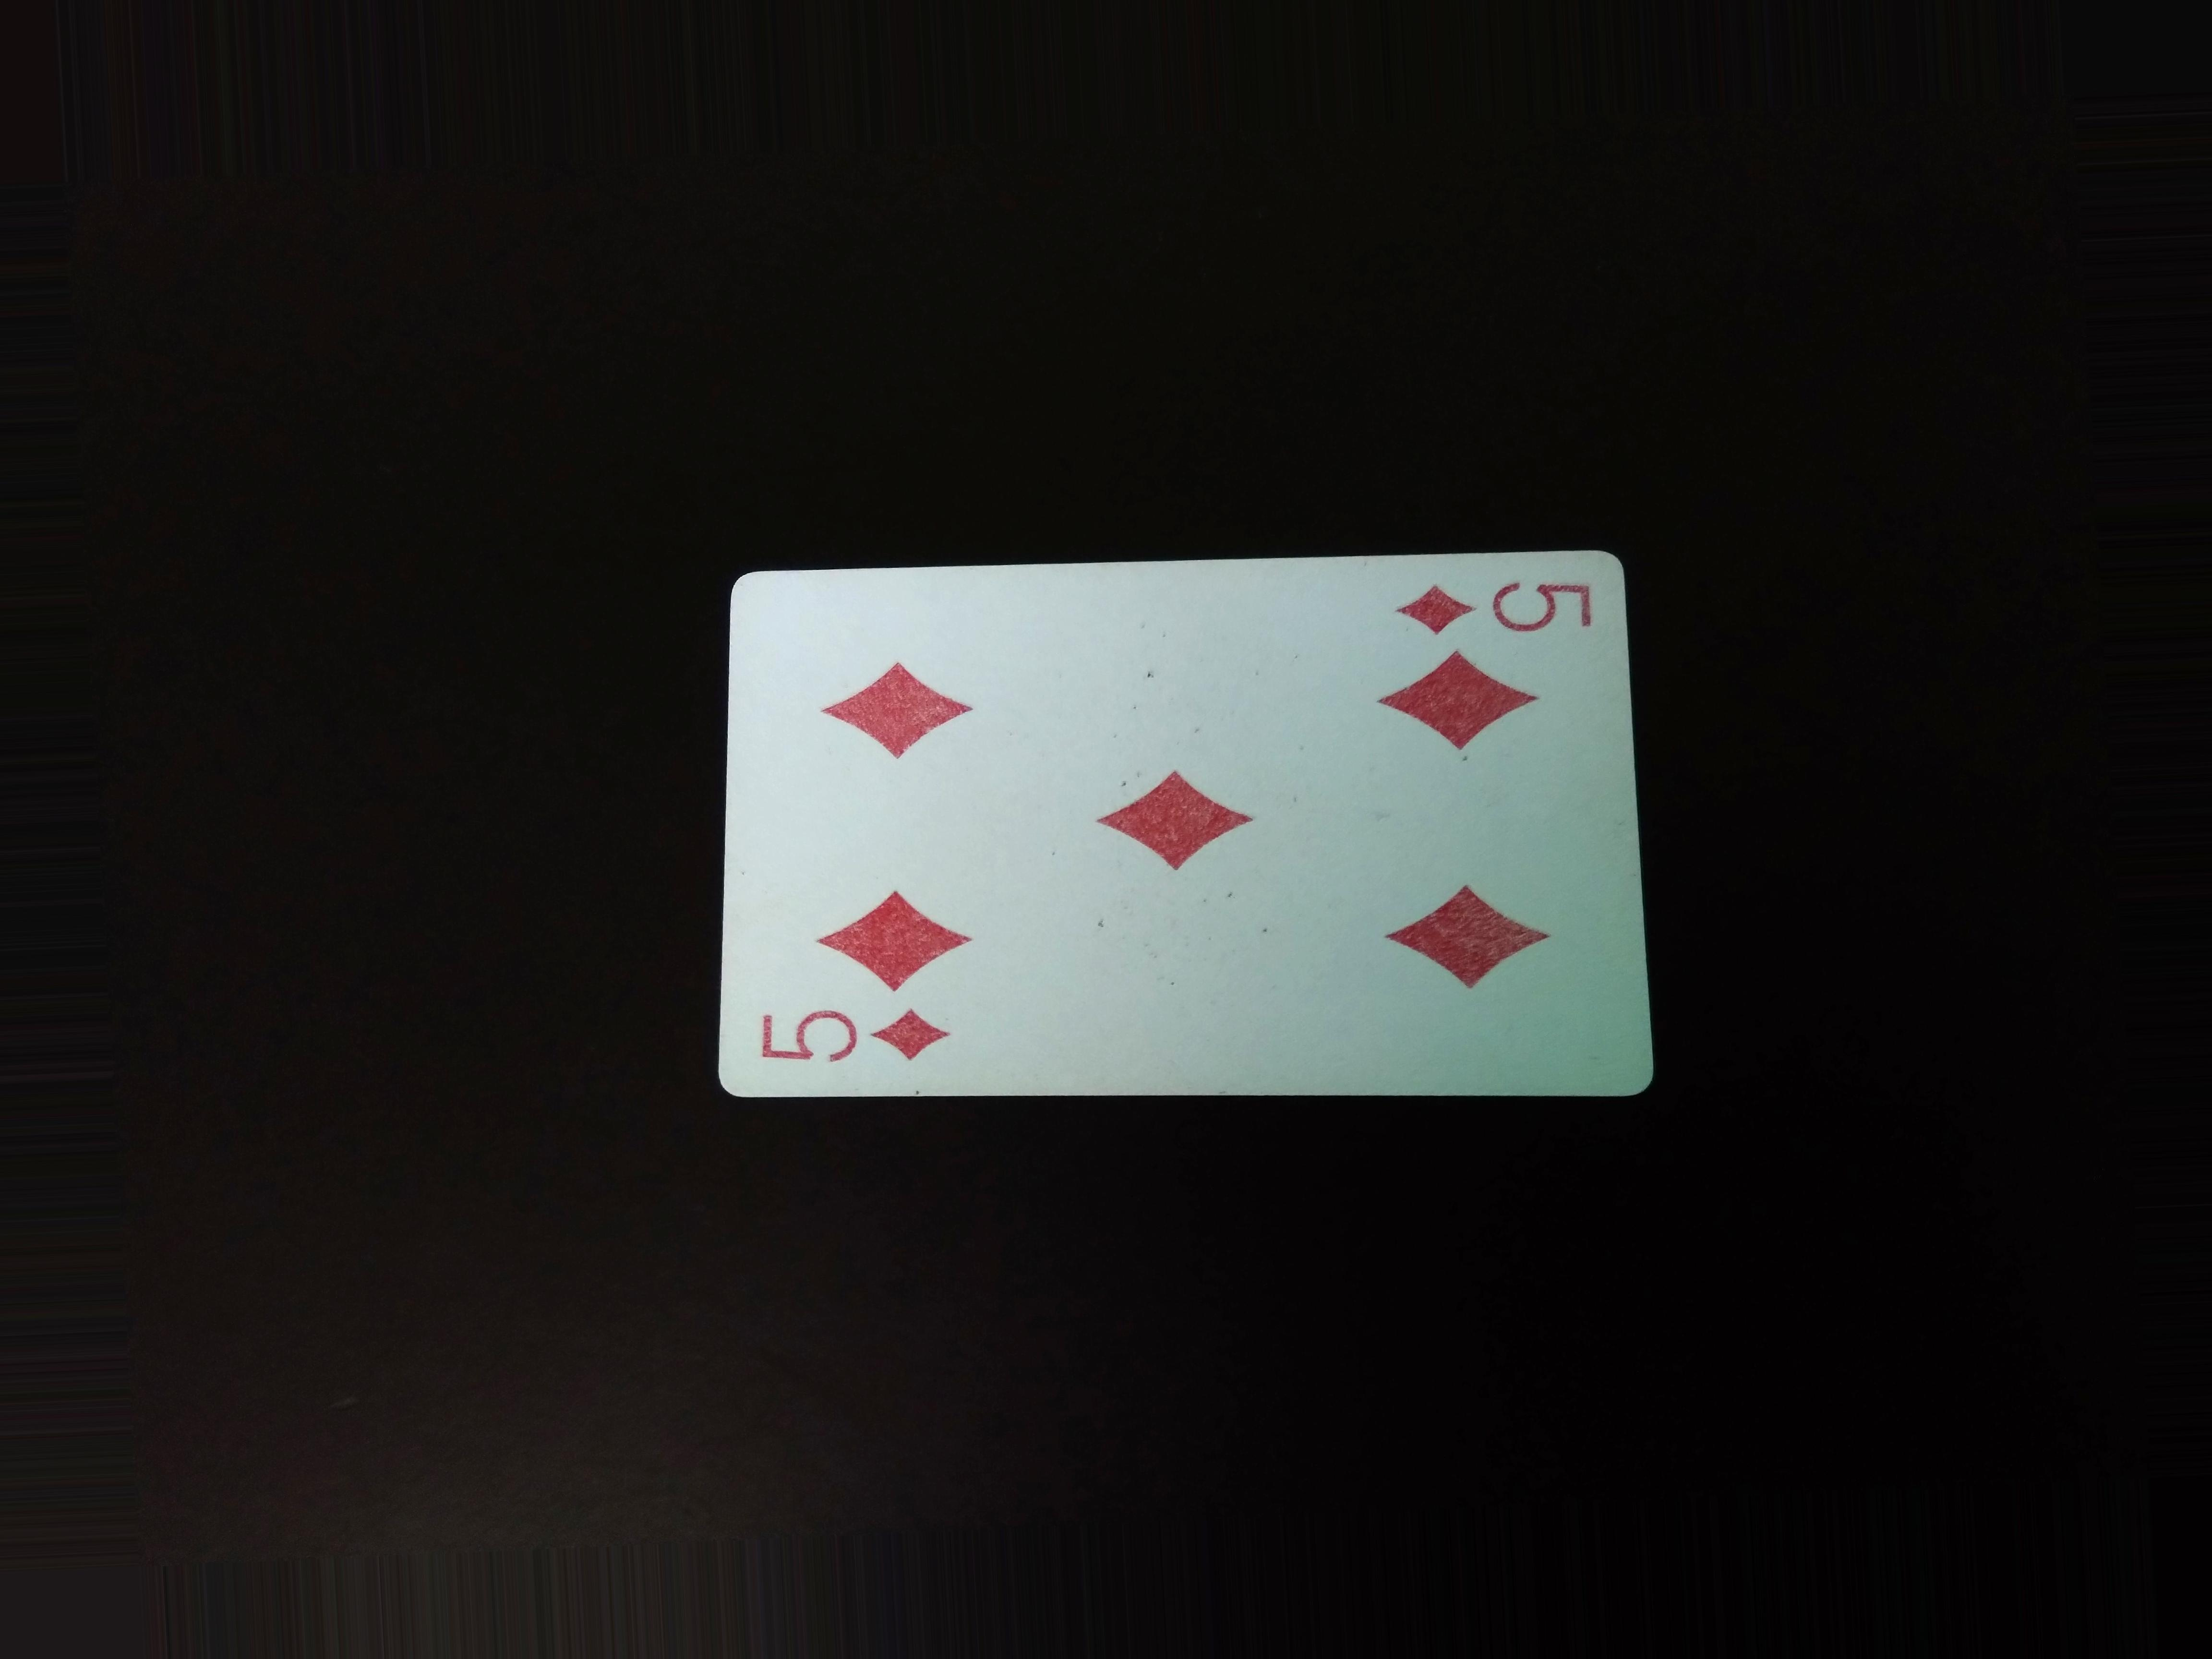5D: (1367, 577, 1606, 643)
